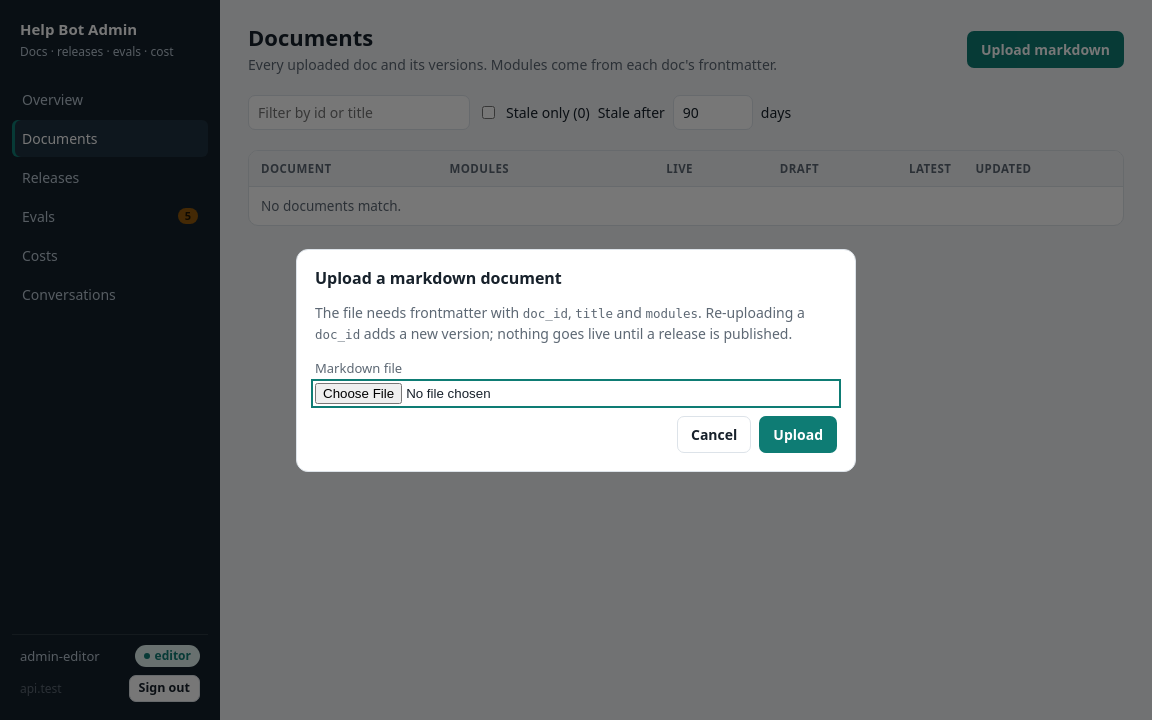
Test: document upload › shows the API's reasons when a file can't be identified
The image size is (1152, 720).
Earlier steps of the test are not shown.
Click the button "Upload" at {"x": 798, "y": 434}, box [759,416,837,452]
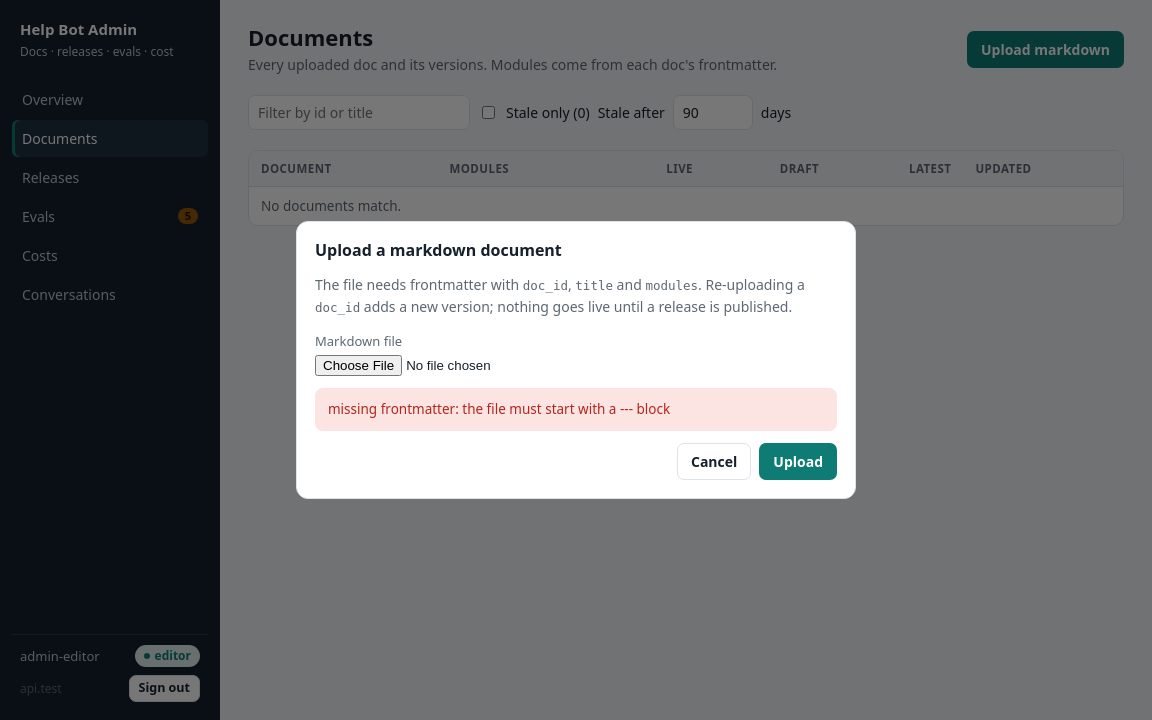
Now the message reads "missing frontmatter: the file must start with a --- block", box [328,400,670,418]
